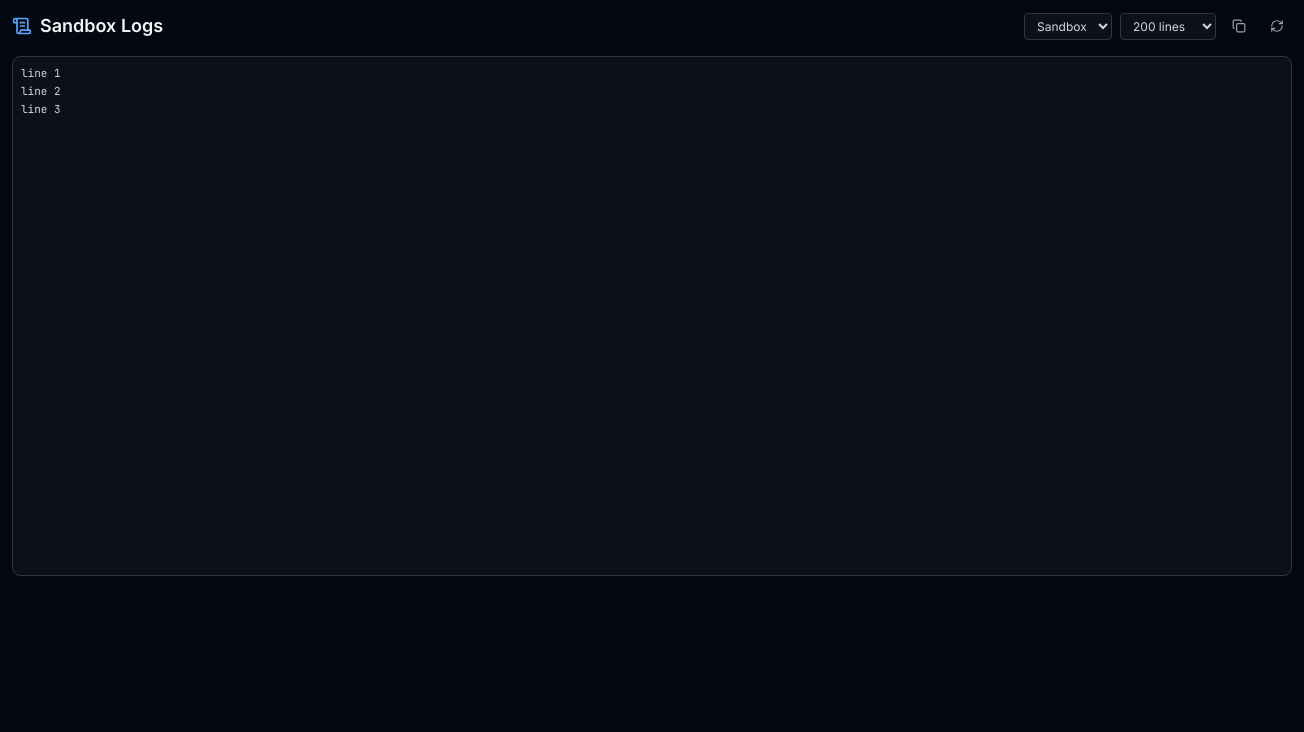
Test: SandboxLogs › copy button shows error icon when clipboard write fails
This screenshot has width=1304, height=732.
expect the text "line 1 line 2 line 3" is shown: met, box [21, 66, 61, 116]
Click the button titled "Copy logs" at (1239, 26), box [1224, 15, 1254, 37]
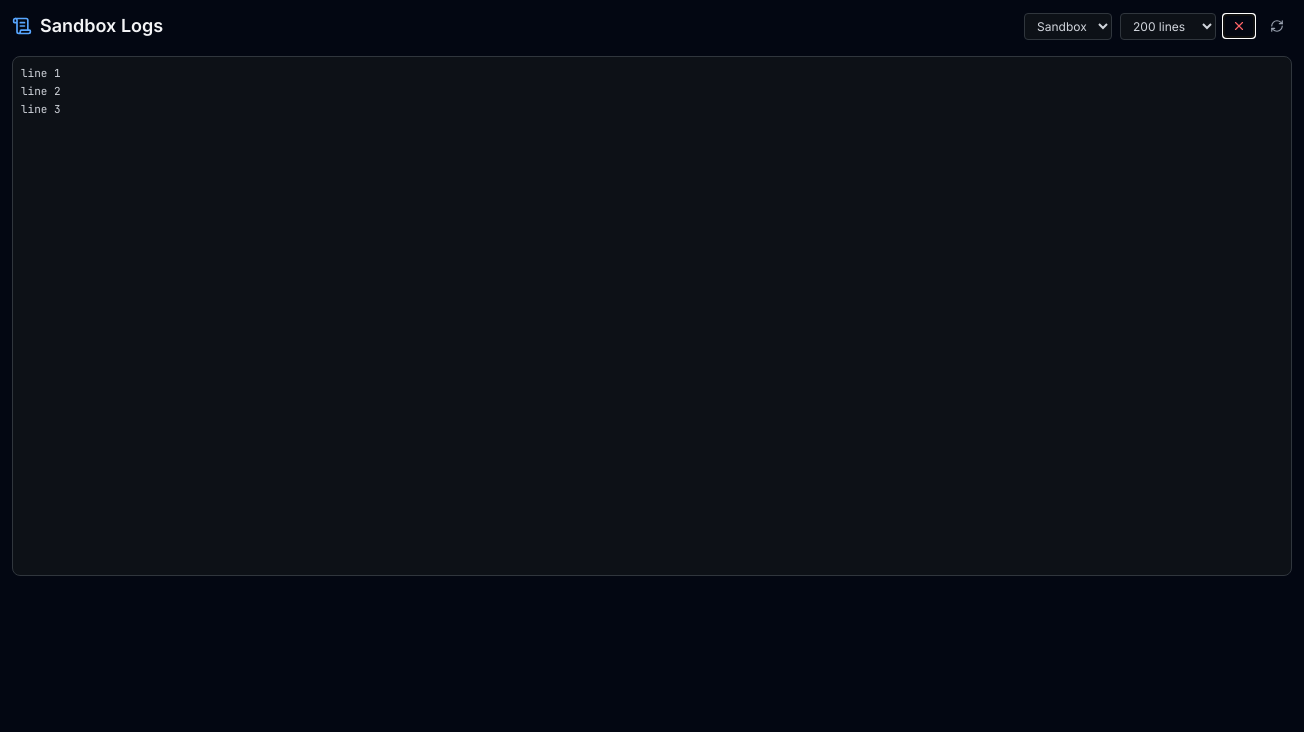
expect the 2nd icon is shown: met, box [1232, 19, 1246, 33]
